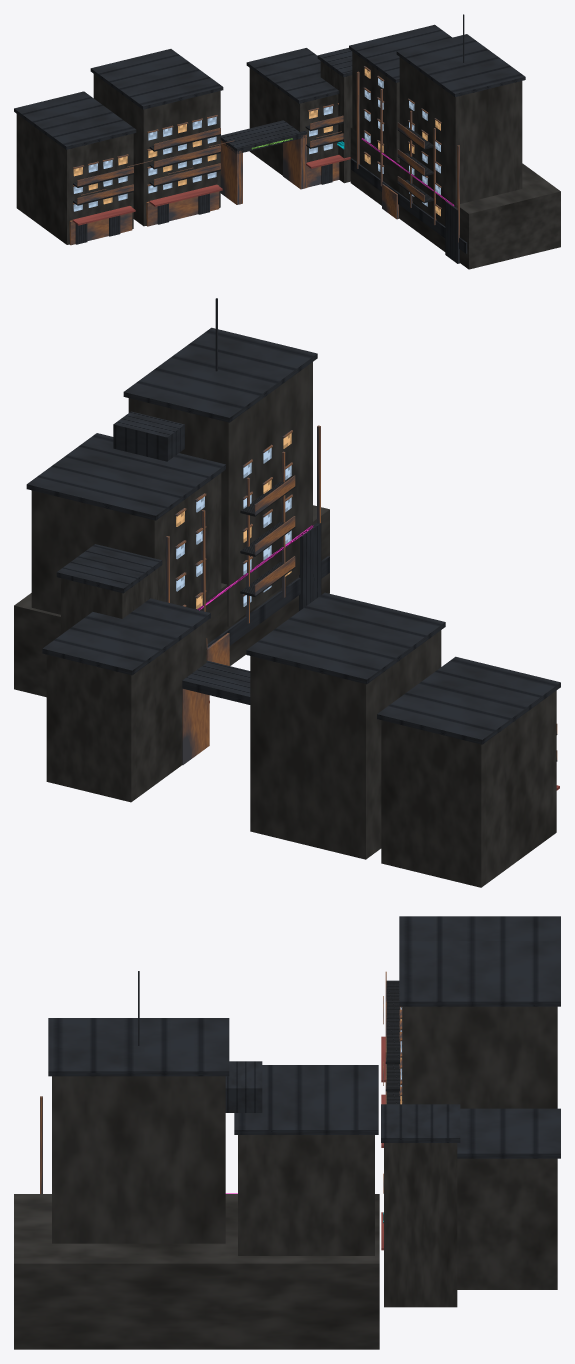
Rendered from Hesperus_CourtyardPerimeter_Phase1.glb.
The picture shows the model from 3 angles, top to bottom: view 1: azimuth 30°, elevation 25°; view 2: azimuth 150°, elevation 25°; view 3: azimuth 270°, elevation 25°; orthographic projection. The views are drawn at different scales.
Visible parts, largest first — view 1: CP_EastMega_TowerNorth, CP_EastMega_Podium, CP_SouthWest_Mass, CP_SouthMiddle_Mass, CP_SouthMiddle_Roof, CP_EastMega_RoofNorth, CP_SouthWest_Roof, CP_SouthEast_Mass, CP_EastMega_TowerSouth, CP_SouthEast_Roof, CP_EastMega_RoofSouth, CP_Southeast_ServiceStack (+18 smaller); view 2: CP_SouthMiddle_Mass, CP_SouthWest_Mass, CP_SouthEast_Mass, CP_EastMega_TowerNorth, CP_EastMega_TowerSouth, CP_SouthMiddle_Roof, CP_EastMega_RoofNorth, CP_EastMega_RoofSouth, CP_SouthWest_Roof, CP_SouthEast_Roof, CP_EastMega_Podium, CP_Southeast_Roof (+6 smaller); view 3: CP_EastMega_Podium, CP_EastMega_TowerNorth, CP_EastMega_TowerSouth, CP_SouthMiddle_Mass, CP_SouthEast_Mass, CP_Southeast_ServiceStack, CP_EastMega_RoofNorth, CP_SouthMiddle_Roof, CP_EastMega_RoofSouth, CP_SouthEast_Roof, CP_SouthWest_Roof, CP_Southeast_Roof (+2 smaller).
Part boxes in pixels (x1,y1,x2,y2): CP_EastMega_TowerNorth: [399, 57, 522, 224]; CP_EastMega_Podium: [350, 127, 560, 269]; CP_SouthWest_Mass: [16, 114, 133, 244]; CP_SouthMiddle_Mass: [93, 74, 220, 226]; CP_SouthMiddle_Roof: [90, 49, 223, 109]; CP_EastMega_RoofNorth: [396, 34, 525, 96]; CP_SouthWest_Roof: [14, 91, 136, 149]; CP_SouthEast_Mass: [249, 68, 338, 175]; CP_EastMega_TowerSouth: [352, 51, 399, 160]; CP_SouthEast_Roof: [246, 48, 339, 103]; CP_EastMega_RoofSouth: [349, 24, 451, 82]; CP_Southeast_ServiceStack: [320, 61, 352, 183]; CP_SouthMiddle_Mass: [250, 630, 441, 859]; CP_SouthWest_Mass: [381, 690, 556, 887]; CP_SouthEast_Mass: [46, 621, 206, 802]; CP_EastMega_TowerNorth: [128, 362, 312, 626]; CP_EastMega_TowerSouth: [31, 473, 221, 629]; CP_SouthMiddle_Roof: [246, 592, 445, 684]; CP_EastMega_RoofNorth: [123, 327, 317, 422]; CP_EastMega_RoofSouth: [26, 433, 225, 520]; CP_SouthWest_Roof: [377, 656, 560, 744]; CP_SouthEast_Roof: [42, 598, 210, 675]; CP_EastMega_Podium: [14, 505, 329, 697]; CP_Southeast_Roof: [56, 544, 162, 593]; CP_EastMega_Podium: [14, 1194, 379, 1349]; CP_EastMega_TowerNorth: [52, 1076, 225, 1243]; CP_EastMega_TowerSouth: [238, 1135, 374, 1255]; CP_SouthMiddle_Mass: [402, 1006, 557, 1108]; CP_SouthEast_Mass: [457, 1158, 557, 1289]; CP_Southeast_ServiceStack: [384, 1143, 457, 1307]; CP_EastMega_RoofNorth: [48, 1018, 229, 1076]; CP_SouthMiddle_Roof: [399, 941, 560, 1006]; CP_EastMega_RoofSouth: [234, 1065, 378, 1134]; CP_SouthEast_Roof: [457, 1108, 560, 1158]; CP_SouthWest_Roof: [399, 916, 560, 940]; CP_Southeast_Roof: [381, 1104, 460, 1142].
Bounding box in the file's own units: 72.35 × 40.5 × 59.85.
Materials: 11 (11 with a texture image).
